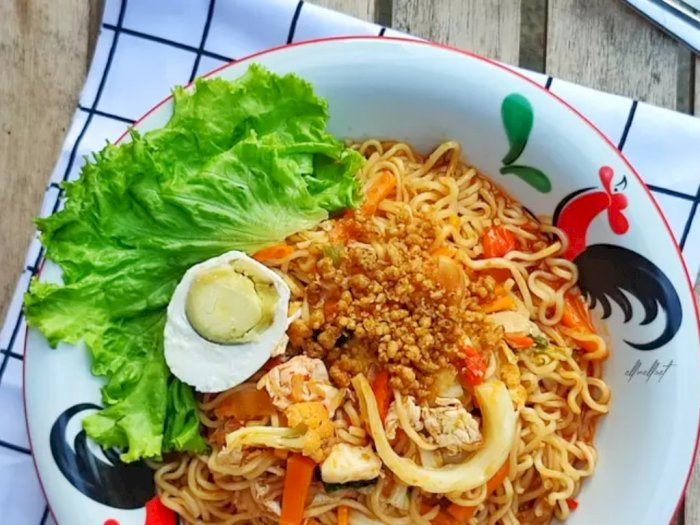Mie: (138, 156, 615, 519)
